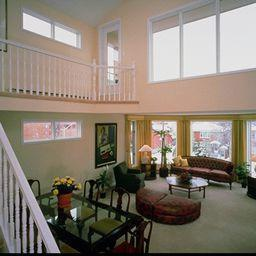Matera: (158, 125, 171, 175), (238, 162, 252, 187)
